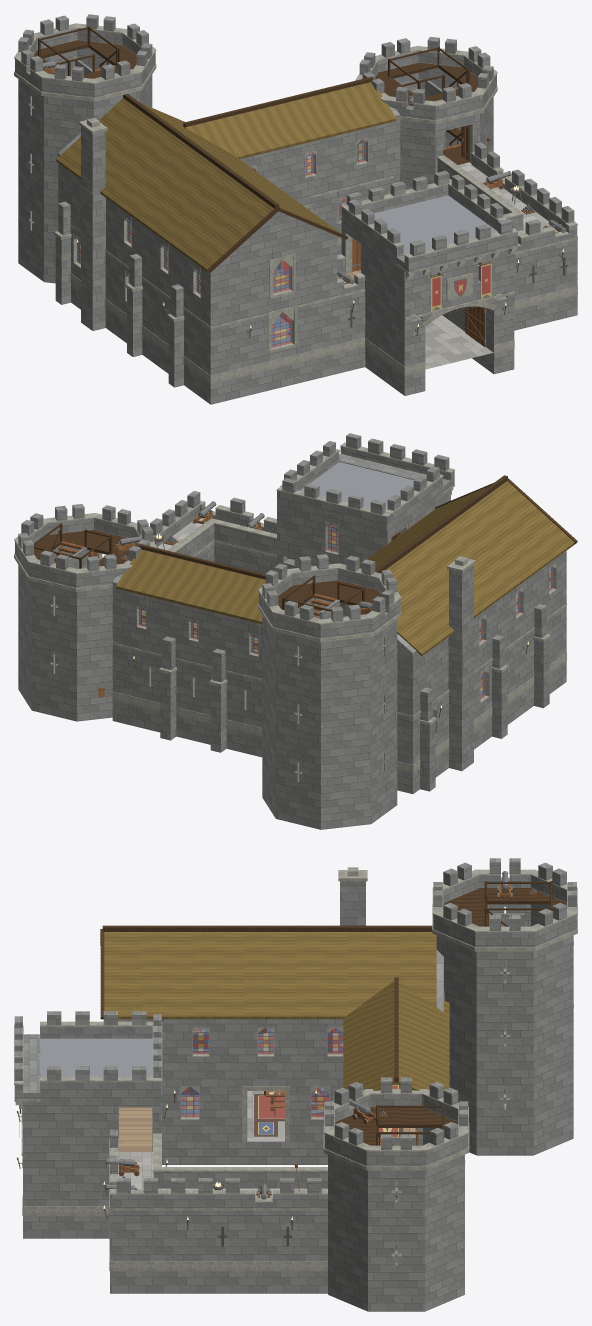
File: keep.glb
The picture shows the model from 3 angles, top to bottom: view 1: azimuth 30°, elevation 25°; view 2: azimuth 150°, elevation 25°; view 3: azimuth 270°, elevation 25°; orthographic projection. The views are drawn at different scales.
Parts seen in each view (by area): view 1: Keep_Shell_Walls, Keep_Upper_Shell_Walls, Keep_Roof_Main, Keep_Roof_Gatehouse, Keep_Upper_Tower_WatchTop, Keep_Upper_Tower_TurretTop, Keep_Upper_Parapet_Walks, Keep_Upper_Shell_WatchL2, Keep_Floor_Flags, Keep_Roof_Chimney, Keep_Upper_Tower_Turret_L2_Floor, Keep_Upper_Tower_Watch_L3_Floor (+9 smaller); view 2: Keep_Shell_Walls, Keep_Upper_Shell_Walls, Keep_Roof_Main, Keep_Roof_Gatehouse, Keep_Upper_Tower_WatchTop, Keep_Upper_Shell_WatchL2, Keep_Upper_Tower_TurretTop, Keep_Upper_Parapet_Walks, Keep_Roof_Chimney, Keep_Upper_Tower_Watch_L3_Floor, Keep_Upper_Tower_Turret_L2_Floor, Keep_Upper_Shell_StainedGlass (+2 smaller); view 3: Keep_Shell_Walls, Keep_Roof_Main, Keep_Upper_Shell_Walls, Keep_Roof_Gatehouse, Keep_Upper_Parapet_Walks, Keep_Upper_Tower_TurretTop, Keep_Upper_Tower_WatchTop, Keep_Upper_Shell_WatchL2, Keep_Upper_Tower_Turret_L2_Floor, Keep_Upper_Floor_Boards, Keep_Upper_Tower_Watch_L3_Floor, Keep_Roof_Chimney (+6 smaller).
Part boxes in pixels (box(x1,y1,x2,y2)): Keep_Shell_Walls: box(18, 130, 577, 404); Keep_Upper_Shell_Walls: box(18, 62, 516, 325); Keep_Roof_Main: box(56, 77, 399, 273); Keep_Roof_Gatehouse: box(341, 170, 518, 273); Keep_Upper_Tower_WatchTop: box(14, 14, 156, 101); Keep_Upper_Tower_TurretTop: box(355, 36, 497, 124); Keep_Upper_Parapet_Walks: box(337, 142, 577, 295); Keep_Upper_Shell_WatchL2: box(18, 39, 152, 147); Keep_Floor_Flags: box(200, 215, 493, 369); Keep_Roof_Chimney: box(79, 117, 107, 194); Keep_Upper_Tower_Turret_L2_Floor: box(375, 62, 477, 101); Keep_Upper_Tower_Watch_L3_Floor: box(34, 40, 136, 78); Keep_Shell_Walls: box(18, 540, 566, 829); Keep_Upper_Shell_Walls: box(18, 454, 566, 750); Keep_Roof_Main: box(112, 475, 577, 656); Keep_Roof_Gatehouse: box(276, 433, 454, 527); Keep_Upper_Tower_WatchTop: box(258, 554, 401, 642); Keep_Upper_Shell_WatchL2: box(262, 580, 397, 692); Keep_Upper_Tower_TurretTop: box(14, 504, 157, 591); Keep_Upper_Parapet_Walks: box(102, 491, 276, 558); Keep_Roof_Chimney: box(447, 556, 475, 633); Keep_Upper_Tower_Watch_L3_Floor: box(278, 580, 381, 614); Keep_Upper_Tower_Turret_L2_Floor: box(34, 530, 137, 566); Keep_Upper_Shell_StainedGlass: box(139, 523, 553, 654); Keep_Shell_Walls: box(21, 1052, 573, 1311); Keep_Roof_Main: box(100, 925, 449, 1106); Keep_Upper_Shell_Walls: box(15, 989, 573, 1224); Keep_Roof_Gatehouse: box(14, 1011, 162, 1101); Keep_Upper_Parapet_Walks: box(109, 1129, 327, 1207); Keep_Upper_Tower_TurretTop: box(323, 1077, 469, 1170); Keep_Upper_Tower_WatchTop: box(432, 858, 577, 951); Keep_Upper_Shell_WatchL2: box(436, 887, 573, 1005); Keep_Upper_Tower_Turret_L2_Floor: box(335, 1107, 457, 1145); Keep_Upper_Floor_Boards: box(119, 1028, 415, 1151); Keep_Upper_Tower_Watch_L3_Floor: box(444, 888, 566, 926); Keep_Roof_Chimney: box(338, 867, 367, 925).
Size of the model in its own units: 24.37 by 12.08 by 25.95.
15 materials, 6 textured.
